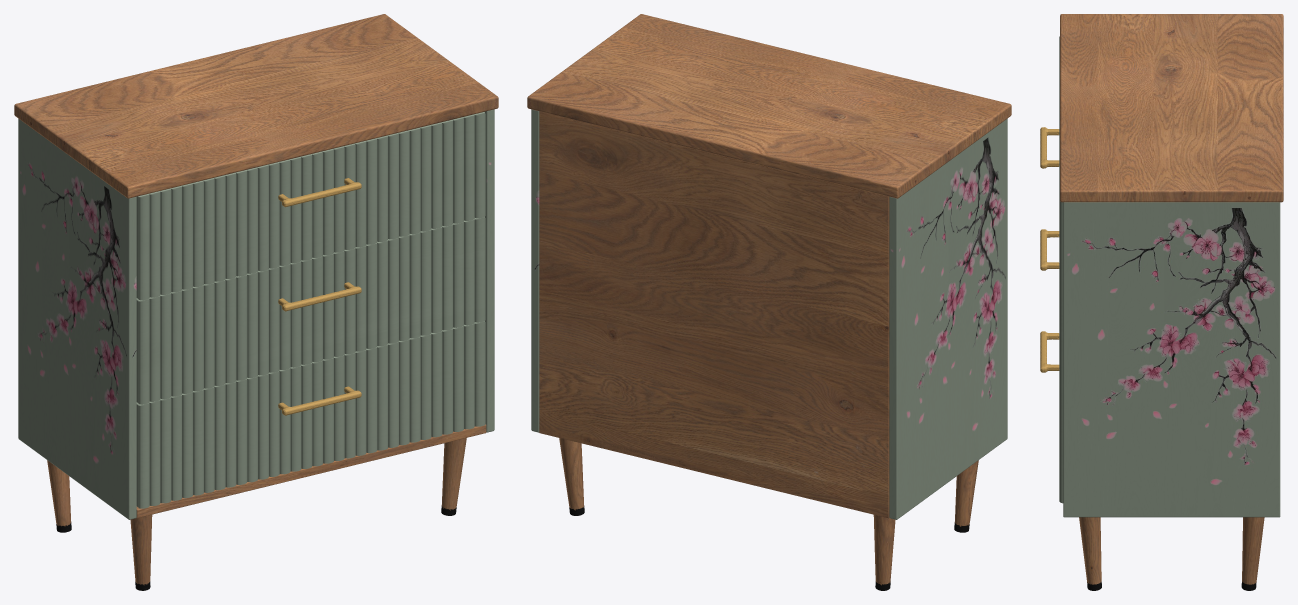
File: comoda_salvia.glb
The picture shows the model from 3 angles, left to right: view 1: azimuth 30°, elevation 25°; view 2: azimuth 150°, elevation 25°; view 3: azimuth 270°, elevation 25°; orthographic projection. The views are drawn at different scales.
Parts seen in each view (by area): view 1: tampo, lateral_esq, frente_ripado_3, frente_ripado_2, frente_ripado_1, lateral_dir, fundo, pe_1_1, frente_tabua_3, pe_-1_1, pe_-1_-1, frente_tabua_2 (+4 smaller); view 2: costas, tampo, lateral_esq, lateral_dir, fundo, pe_1_-1, pe_-1_-1, pe_-1_1; view 3: lateral_dir, tampo, pe_1_1, pe_1_-1, frente_ripado_3, frente_ripado_2, frente_ripado_1, puxador_1, puxador_2, puxador_3.
Part boxes in pixels (x1=…): tampo: x1=14, y1=14, x2=498, y2=198; lateral_esq: x1=18, y1=118, x2=136, y2=519; frente_ripado_3: x1=138, y1=113, x2=485, y2=300; frente_ripado_2: x1=138, y1=218, x2=485, y2=404; frente_ripado_1: x1=138, y1=322, x2=485, y2=508; lateral_dir: x1=484, y1=109, x2=494, y2=432; fundo: x1=136, y1=424, x2=486, y2=517; pe_1_1: x1=441, y1=438, x2=466, y2=510; frente_tabua_3: x1=136, y1=112, x2=484, y2=298; pe_-1_1: x1=130, y1=514, x2=152, y2=585; pe_-1_-1: x1=47, y1=460, x2=71, y2=526; frente_tabua_2: x1=136, y1=217, x2=484, y2=403; costas: x1=539, y1=111, x2=889, y2=518; tampo: x1=527, y1=14, x2=1011, y2=198; lateral_esq: x1=889, y1=118, x2=1007, y2=519; lateral_dir: x1=531, y1=109, x2=539, y2=432; fundo: x1=540, y1=426, x2=887, y2=517; pe_1_-1: x1=559, y1=438, x2=583, y2=510; pe_-1_-1: x1=873, y1=515, x2=895, y2=585; pe_-1_1: x1=954, y1=460, x2=978, y2=526; lateral_dir: x1=1063, y1=202, x2=1280, y2=517; tampo: x1=1060, y1=14, x2=1283, y2=202; pe_1_1: x1=1079, y1=517, x2=1101, y2=584; pe_1_-1: x1=1242, y1=517, x2=1264, y2=584; frente_ripado_3: x1=1059, y1=36, x2=1063, y2=298; frente_ripado_2: x1=1059, y1=297, x2=1063, y2=401; frente_ripado_1: x1=1059, y1=400, x2=1063, y2=503; puxador_1: x1=1040, y1=331, x2=1059, y2=372; puxador_2: x1=1040, y1=229, x2=1059, y2=270; puxador_3: x1=1040, y1=127, x2=1059, y2=168.
Size of the model in its own units: 0.812 by 0.8807 by 0.47.
Materials: 6 (3 with a texture image).
